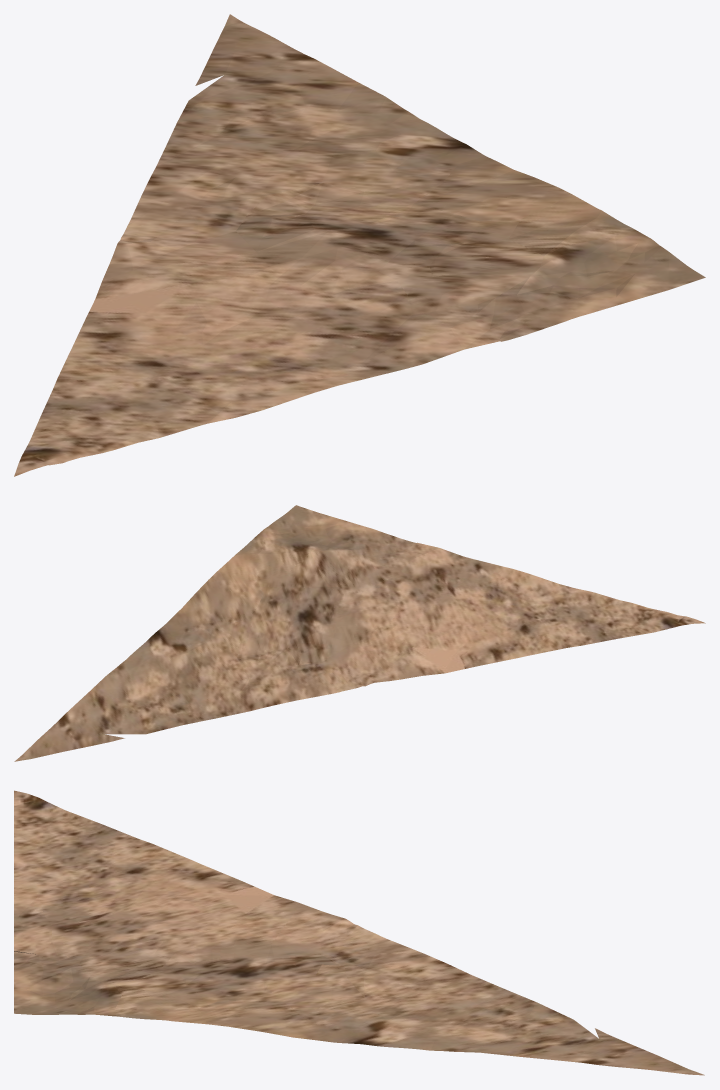
3 views of the same model, one above another, from view 1: azimuth 30°, elevation 25°; view 2: azimuth 150°, elevation 25°; view 3: azimuth 270°, elevation 25° (orthographic). The views are drawn at different scales.
Bounding box in the file's own units: 5.66 × 0.6637 × 6.74.
1 material, 1 textured.
